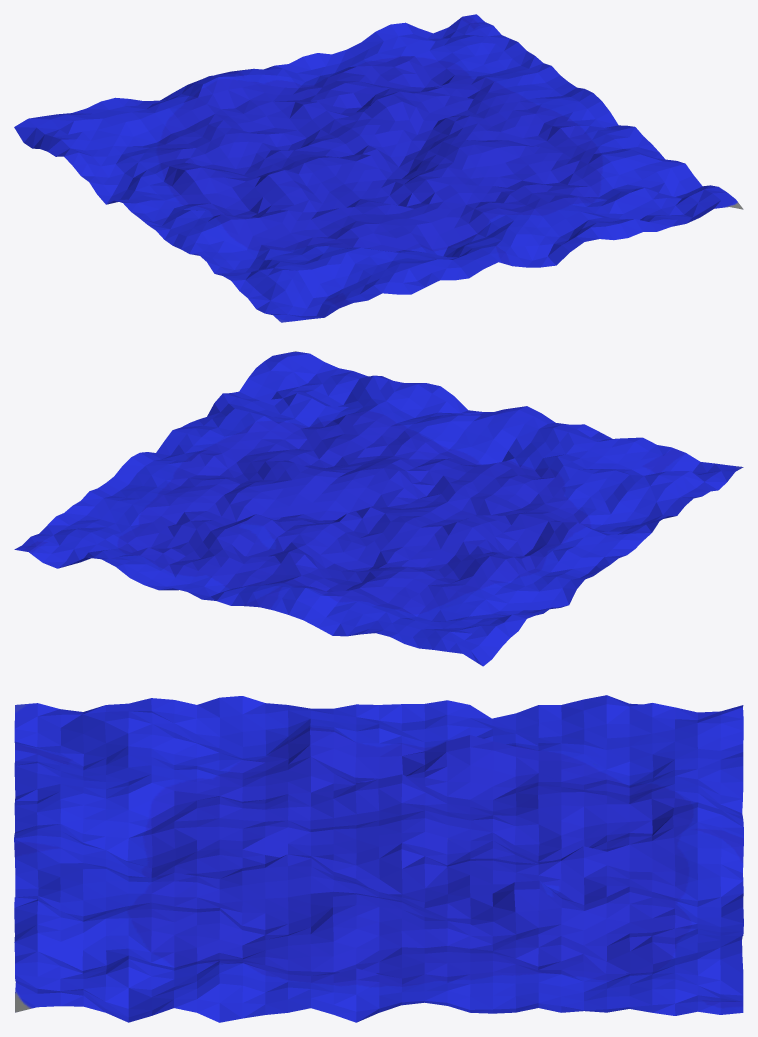
The model's file is Water.fbx.
3 views of the same model, one above another, from view 1: azimuth 30°, elevation 25°; view 2: azimuth 150°, elevation 25°; view 3: azimuth 270°, elevation 25° (orthographic). The views are drawn at different scales.
Visible parts, largest first — view 1: node_id4; view 2: node_id4; view 3: node_id4.
Boxes of the visible parts, <box> form: node_id4: <box>14,14,743,322</box>; node_id4: <box>14,351,743,666</box>; node_id4: <box>14,695,743,1022</box>.
Bounding box in the file's own units: 0.512 × 0.0346 × 0.5123.
Materials: 1 (1 with a texture image).
